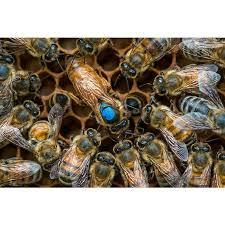Queen-Bee: (62, 50, 130, 134)
worker-bee: (150, 62, 223, 100), (143, 97, 196, 149), (138, 131, 180, 186), (62, 130, 104, 184), (178, 88, 225, 134), (183, 140, 211, 197), (114, 139, 144, 186)
